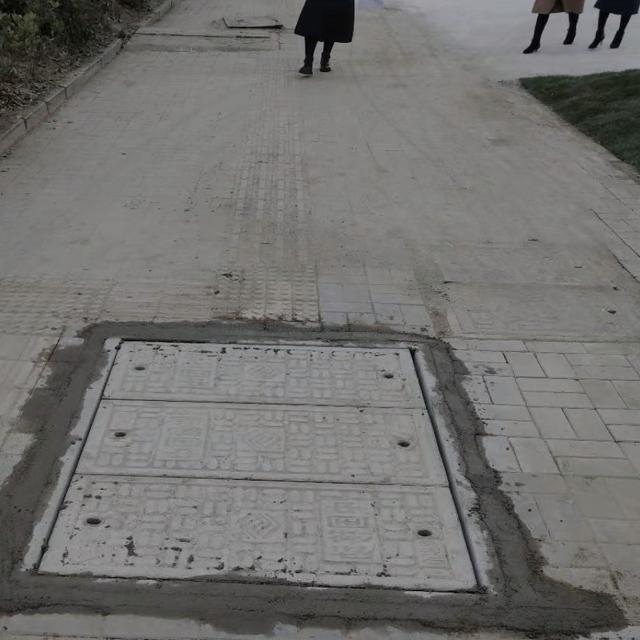good: (31, 340, 473, 578)
